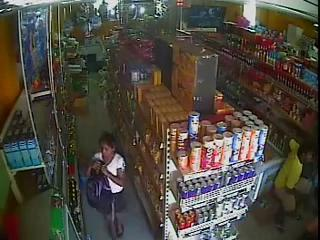Normal: (85, 134, 128, 240), (272, 138, 304, 192)
